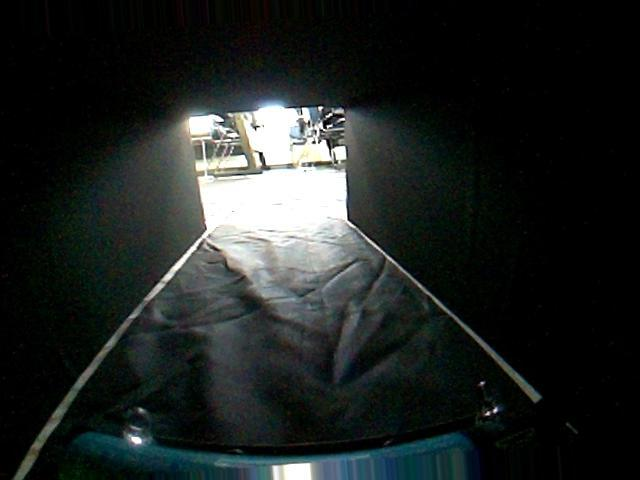straight: (7, 189, 640, 480)
